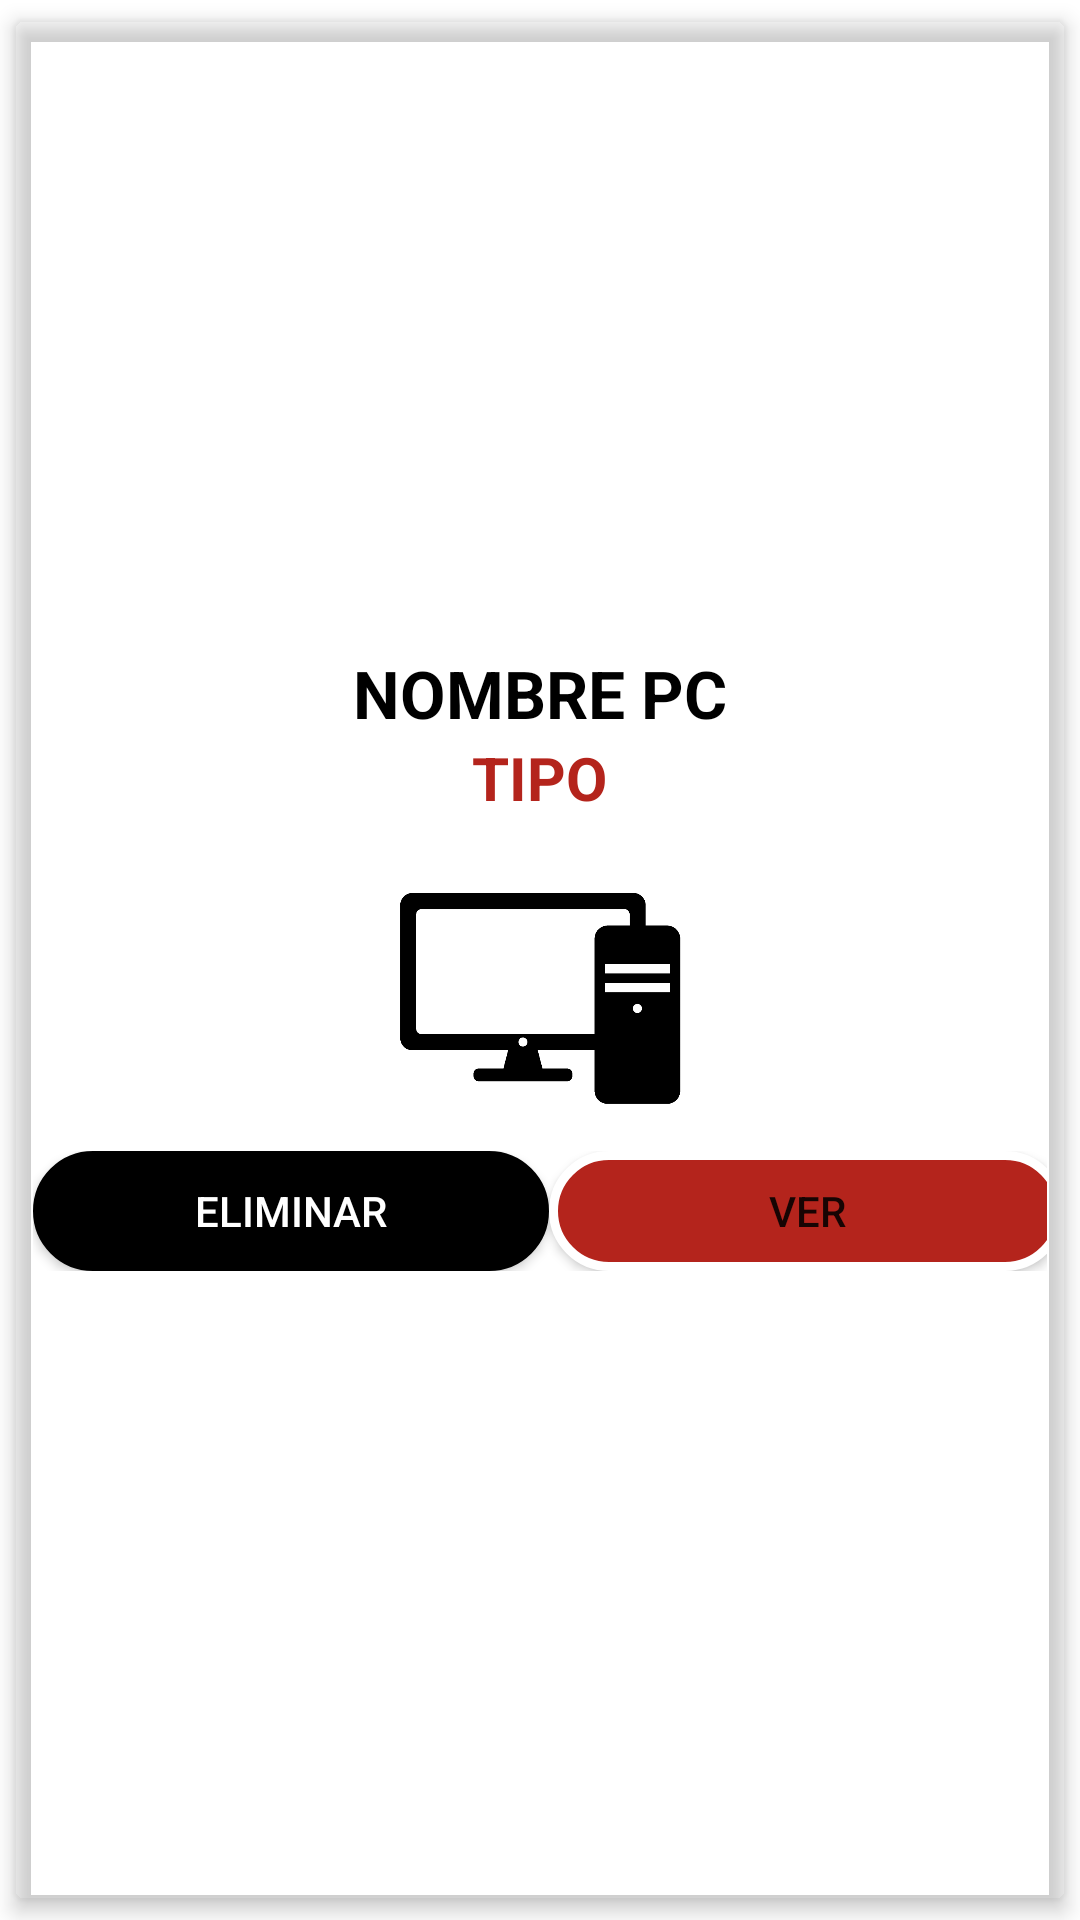

Named icons in this screenshot (1080 × 1920) and their bounding boxes, (x1, y1, x2, y2):
ordenador: (400, 893, 681, 1104)
